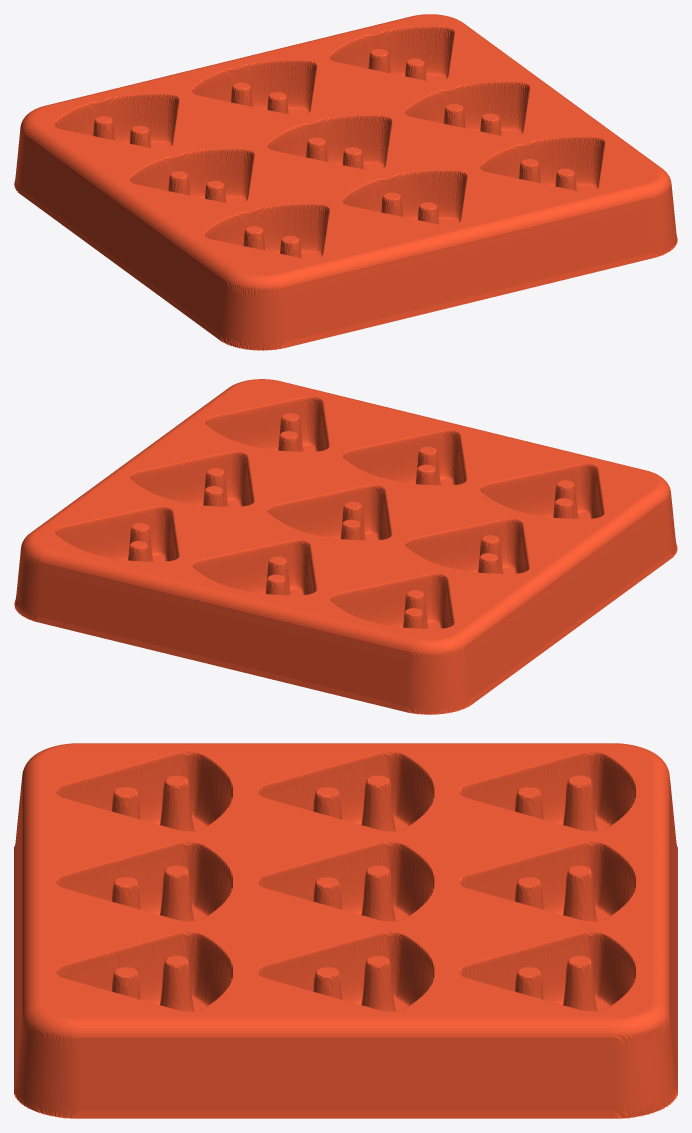
Rendered from mold.glb.
3 renders of one model, top to bottom at view 1: azimuth 30°, elevation 25°; view 2: azimuth 150°, elevation 25°; view 3: azimuth 270°, elevation 25°, orthographic. The views are drawn at different scales.
Parts seen in each view (by area): view 1: geometry_0; view 2: geometry_0; view 3: geometry_0.
Part boxes in pixels (x1=…): geometry_0: x1=14, y1=14, x2=677, y2=350; geometry_0: x1=14, y1=379, x2=677, y2=714; geometry_0: x1=14, y1=743, x2=677, y2=1118.
Size of the model in its own units: 0.0964 by 0.0136 by 0.0916.
